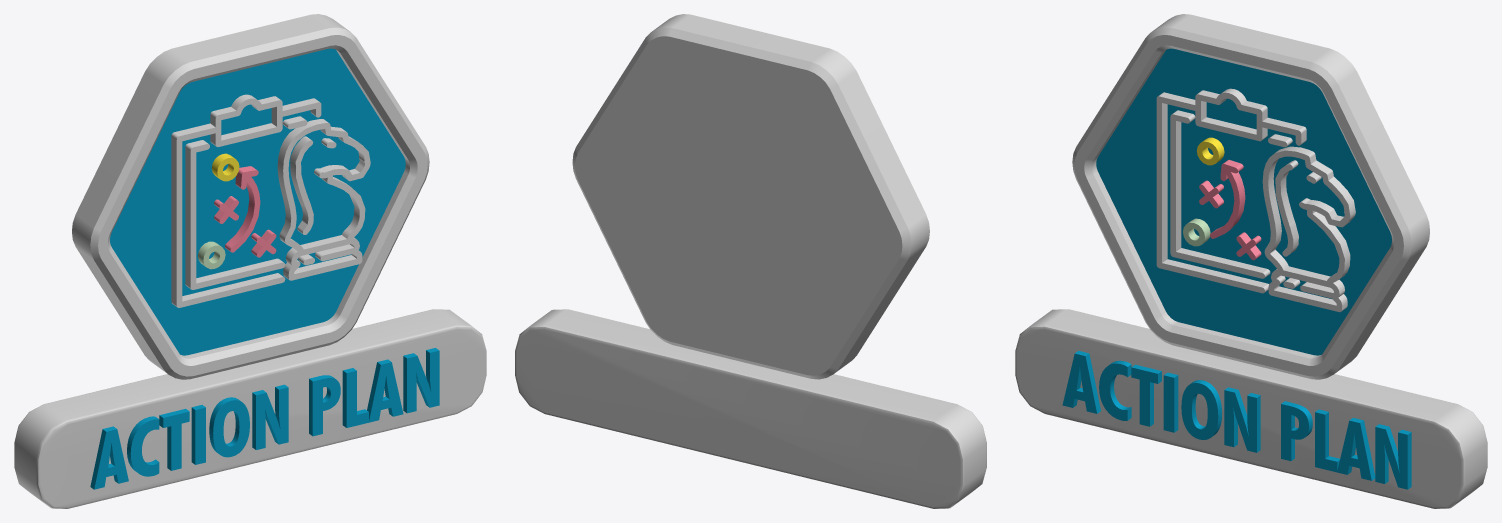
The model's file is 09_ActionPlan.glb.
3 renders of one model, left to right at view 1: azimuth 30°, elevation 25°; view 2: azimuth 150°, elevation 25°; view 3: azimuth 330°, elevation 25°, orthographic.
Visible parts, largest first — view 1: actionPlan; view 2: actionPlan; view 3: actionPlan.
Boxes of the visible parts, x1,y1,x2,y2 form: actionPlan: (14, 14, 486, 508); actionPlan: (515, 14, 986, 508); actionPlan: (1015, 14, 1487, 508).
Size of the model in its own units: 0.245 by 0.2162 by 0.0272.
